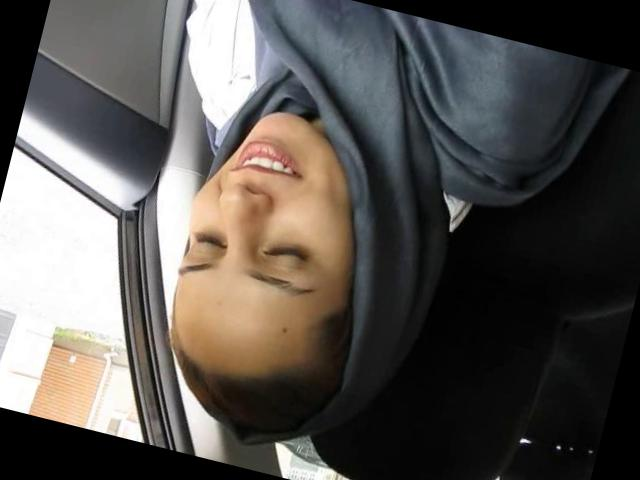eye_closed: (253, 230, 317, 278), (188, 226, 232, 260)
face: (165, 103, 382, 329)
